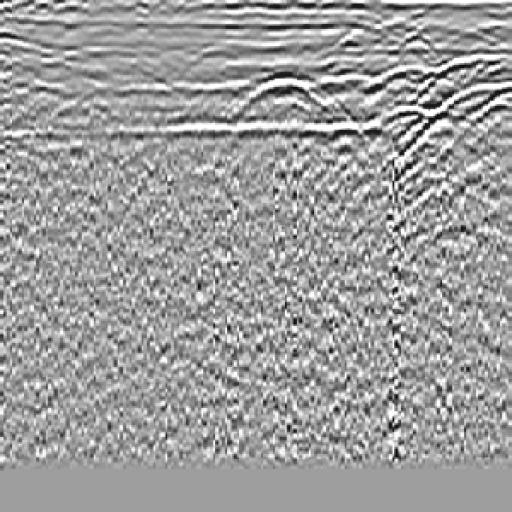metalic: (216, 52, 357, 121)
non-metallic: (376, 66, 512, 174)
